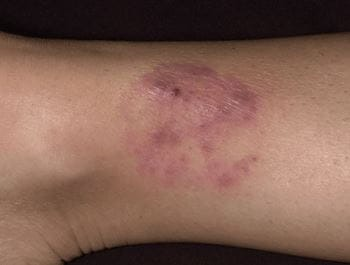Ringworm: (117, 54, 269, 197)
